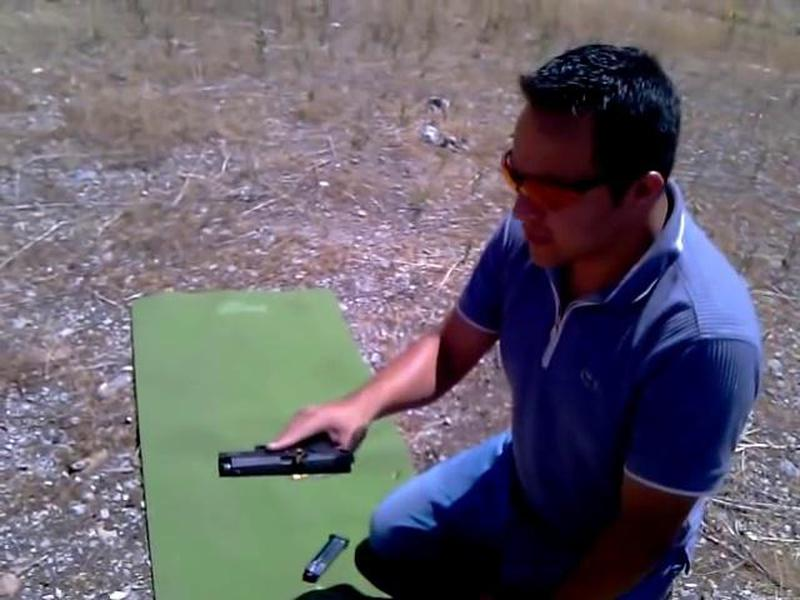Pistola: (207, 427, 368, 494)
